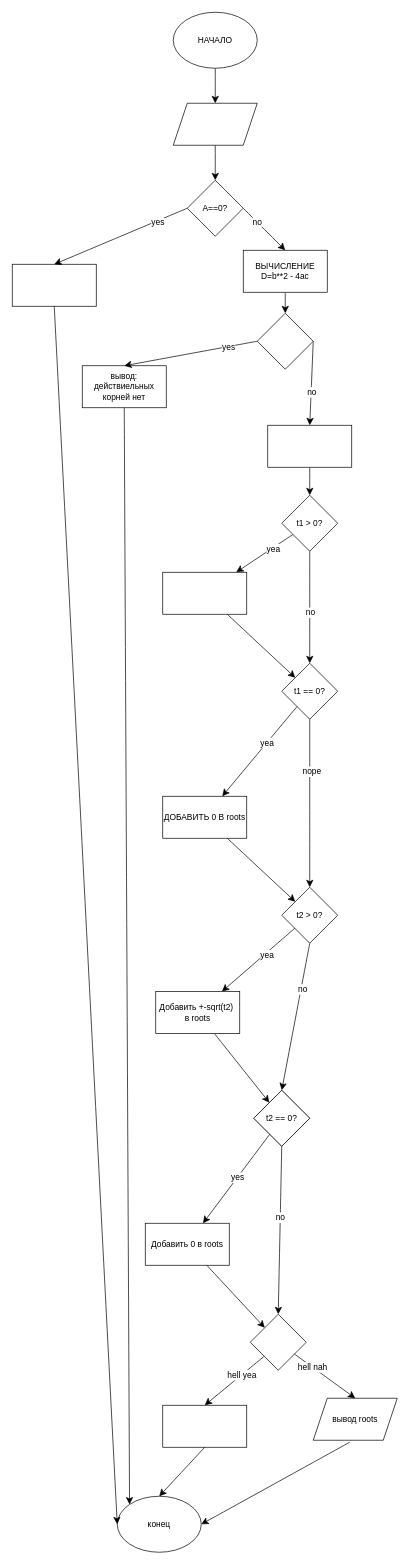
The diagram is 410 pixels wide and 1565 high, and some of its shapes have lost their labels. The centre of each missing label's shape, as x and y in pixels:
D < 0?: point (285, 341)
roots пуст?: point (278, 1342)
ВВОД a,b,c: point (215, 124)
вывод: действительных корней нет: point (204, 1426)
вывод: Ошибка: a=0: point (54, 285)
ВЫчисление t1,t2: point (309, 446)
добавить +-sqr(t1) в roots: point (204, 593)
